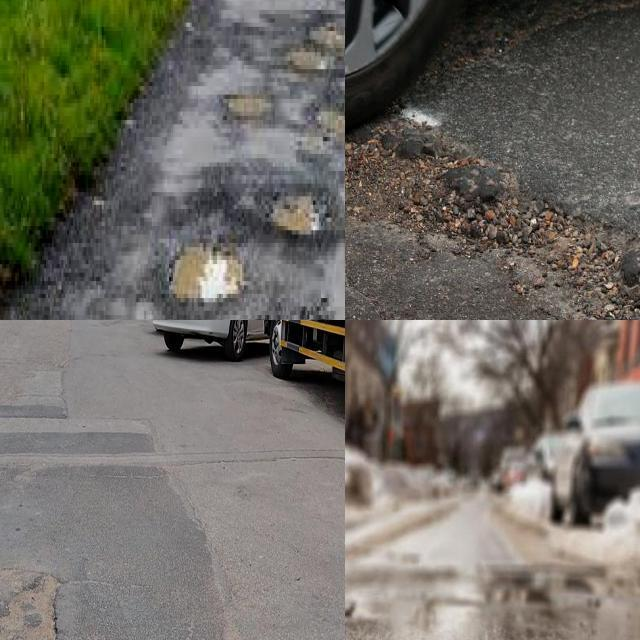Pothole: (345, 122, 640, 320), (0, 567, 64, 640)
